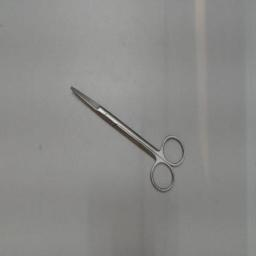Curved Mayo Scissors: (68, 82, 190, 198)
